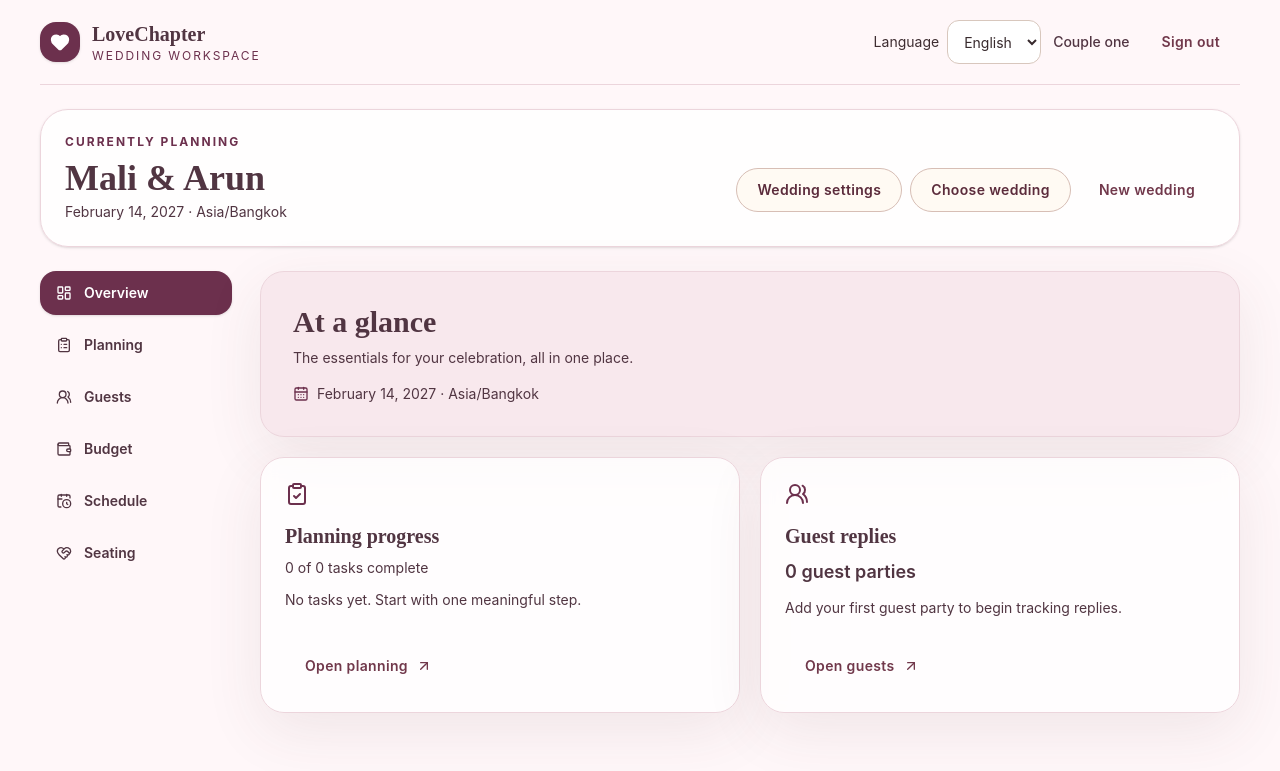
CoupleWorkspace › offers a compact wedding picker and bounded load-more
The image size is (1280, 771).
Expected: the heading "Mali & Arun" is shown, x1=65 y1=158 x2=287 y2=198
Click the button "Choose wedding".
click(991, 190)  # box x1=910 y1=168 x2=1071 y2=212
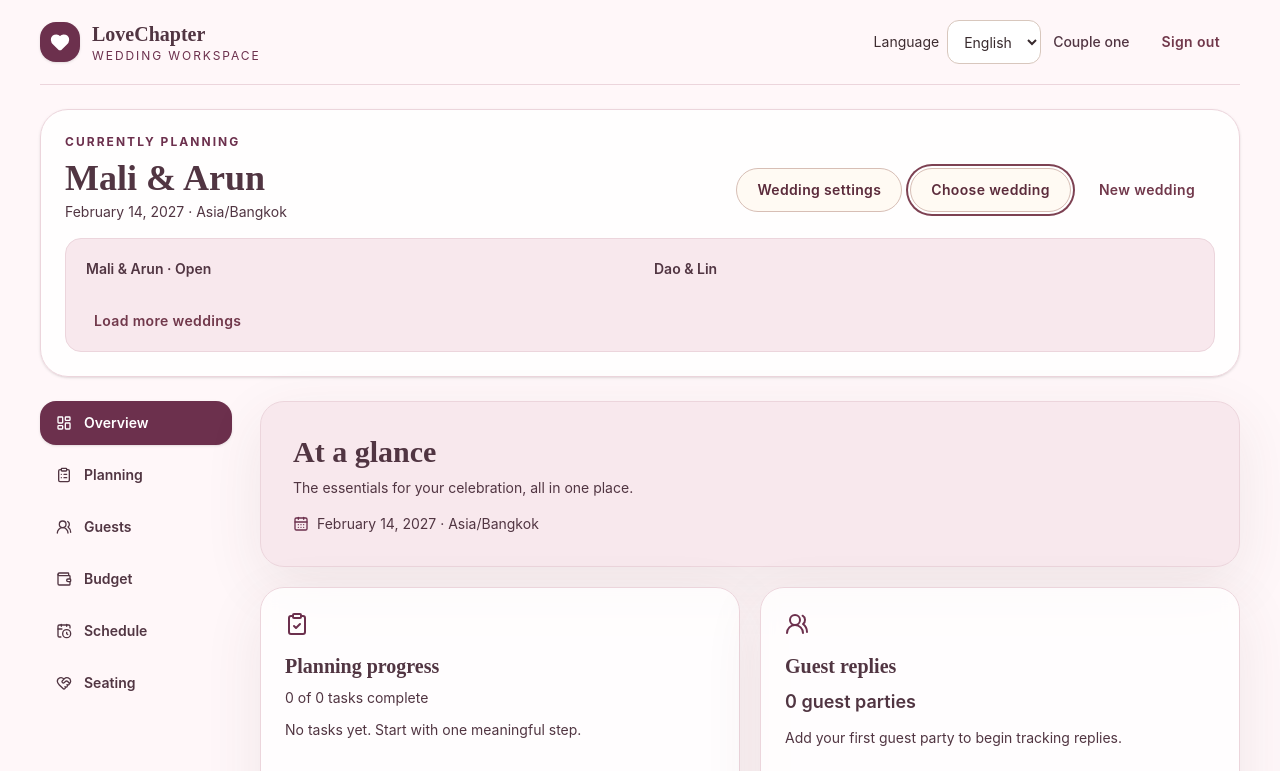
Click the button "Load more weddings".
click(168, 321)  # box x1=74 y1=299 x2=261 y2=343
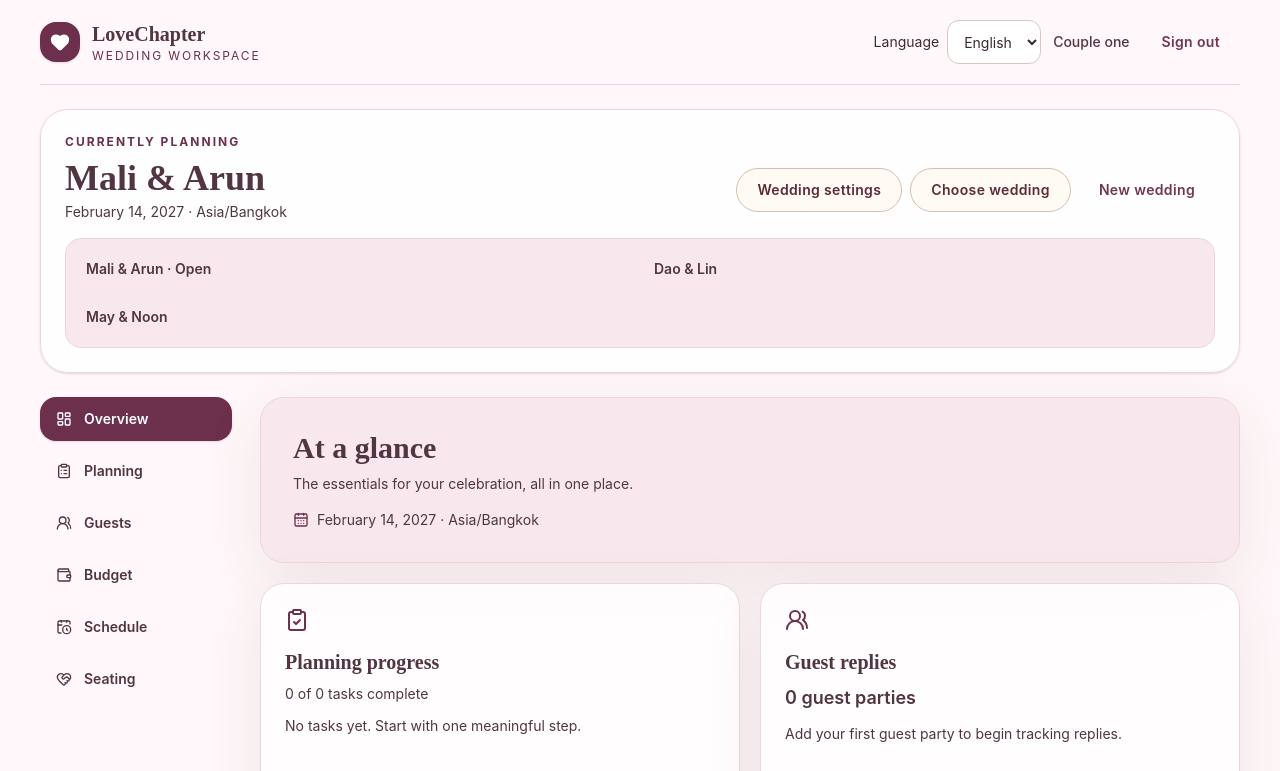
Click the button "May & Noon".
click(127, 316)  # box x1=74 y1=295 x2=638 y2=339
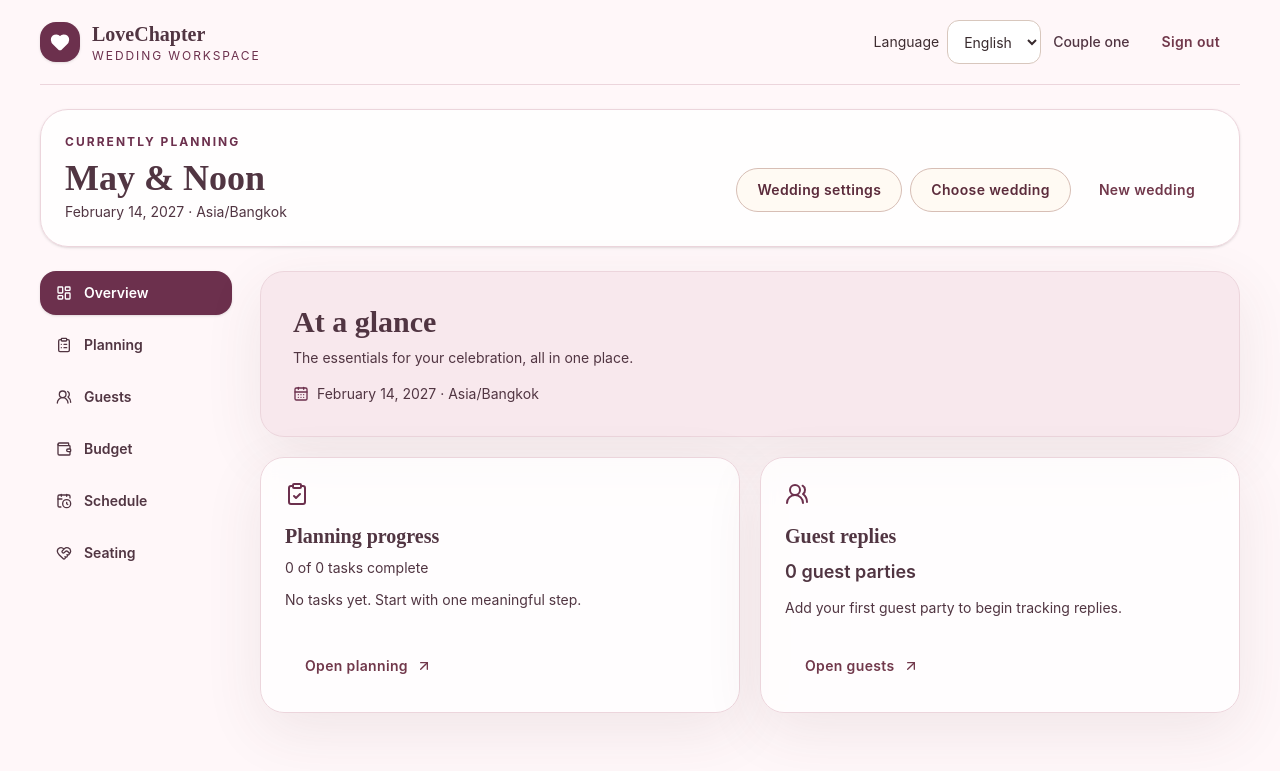
Result: the heading "May & Noon" is shown at x1=65 y1=158 x2=287 y2=198
